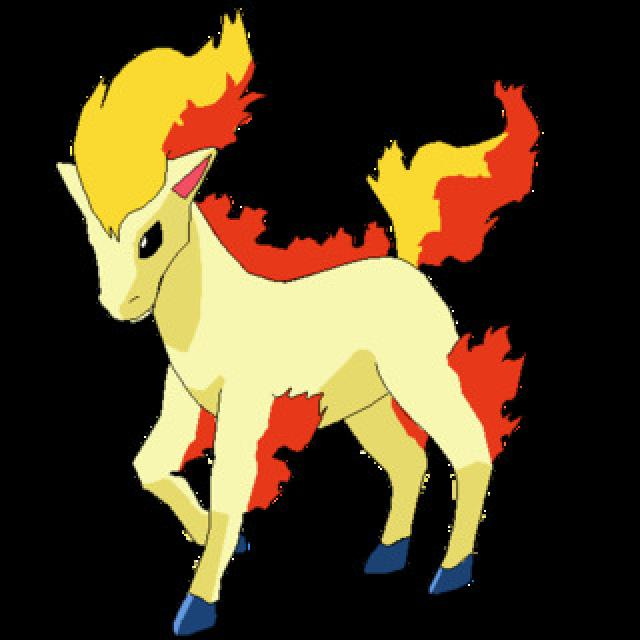Ponyta: (57, 39, 494, 614)
